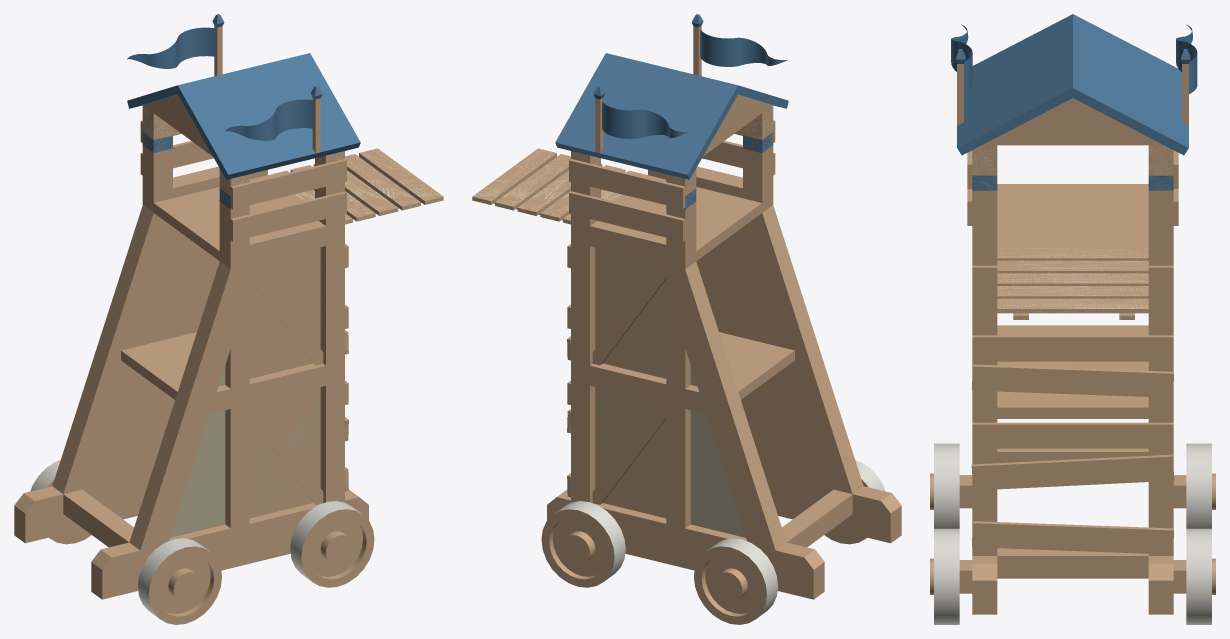
File: siegeTower.obj
The picture shows the model from 3 angles, left to right: view 1: azimuth 30°, elevation 25°; view 2: azimuth 150°, elevation 25°; view 3: azimuth 270°, elevation 25°; orthographic projection. The views are drawn at different scales.
Parts seen in each view (by area): view 1: body 8, wheelBackRight 10, wheelFrontRight 13, bridge 4, flag 25, flag 24, wheelBackLeft 10; view 2: body 8, wheelBackLeft 10, wheelFrontLeft 13, bridge 4, flag 24, flag 25, wheelBackRight 10; view 3: body 8, bridge 4, wheelFrontLeft 13, wheelFrontRight 13, wheelBackLeft 10, wheelBackRight 10, flag 25, flag 24.
Boxes of the visible parts, left/top/right/bottom form: body 8: left=14, top=53, right=368, bottom=599; wheelBackRight 10: left=137, top=538, right=221, bottom=624; wheelFrontRight 13: left=290, top=501, right=374, bottom=587; bridge 4: left=268, top=148, right=443, bottom=224; flag 25: left=225, top=86, right=322, bottom=153; flag 24: left=127, top=14, right=224, bottom=76; wheelBackLeft 10: left=30, top=460, right=91, bottom=544; body 8: left=547, top=53, right=901, bottom=599; wheelBackLeft 10: left=694, top=538, right=778, bottom=624; wheelFrontLeft 13: left=541, top=501, right=625, bottom=587; bridge 4: left=472, top=148, right=647, bottom=224; flag 24: left=593, top=86, right=689, bottom=153; flag 25: left=691, top=14, right=788, bottom=76; wheelBackRight 10: left=824, top=460, right=885, bottom=544; body 8: left=957, top=14, right=1188, bottom=614; bridge 4: left=997, top=248, right=1148, bottom=319; wheelFrontLeft 13: left=1186, top=528, right=1215, bottom=624; wheelFrontRight 13: left=930, top=528, right=959, bottom=624; wheelBackLeft 10: left=1186, top=443, right=1215, bottom=528; wheelBackRight 10: left=930, top=443, right=959, bottom=528; flag 25: left=951, top=24, right=972, bottom=125; flag 24: left=1176, top=24, right=1197, bottom=125.
Bounding box in the file's own units: 19.62 × 25.98 × 11.91.
